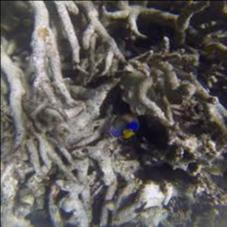bleached_corals: (0, 0, 141, 227)
